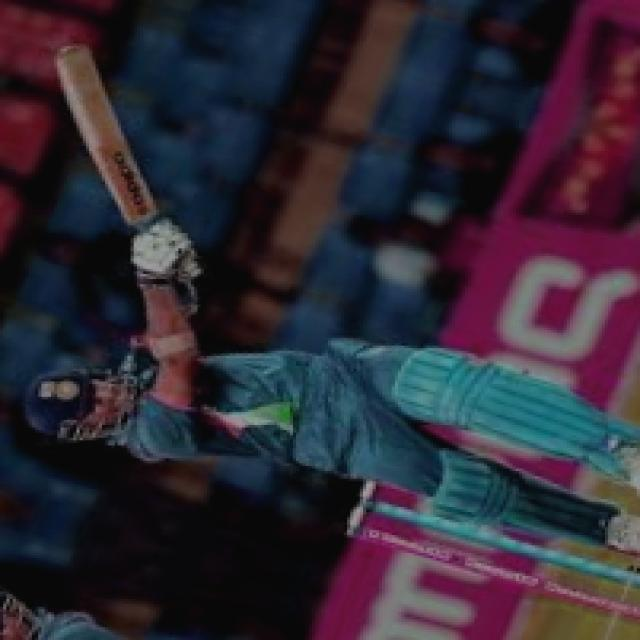toe: (47, 31, 99, 78)
